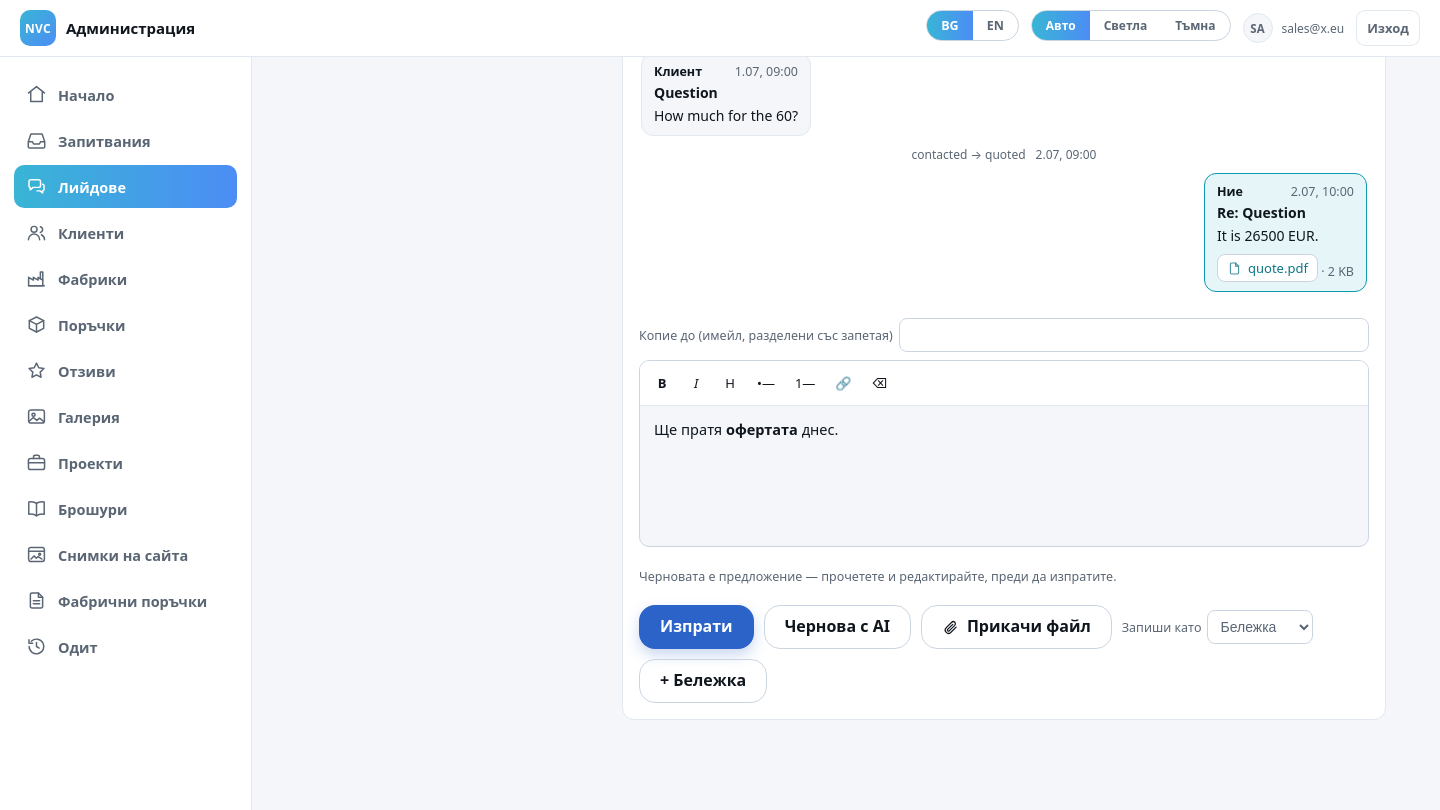
Scenario: AdminPipelinePage › sends the reply as rich HTML and returns the box to the bare signature
(page scrolled)
Click the button "Изпрати" at (696, 627), box [639, 605, 754, 649]
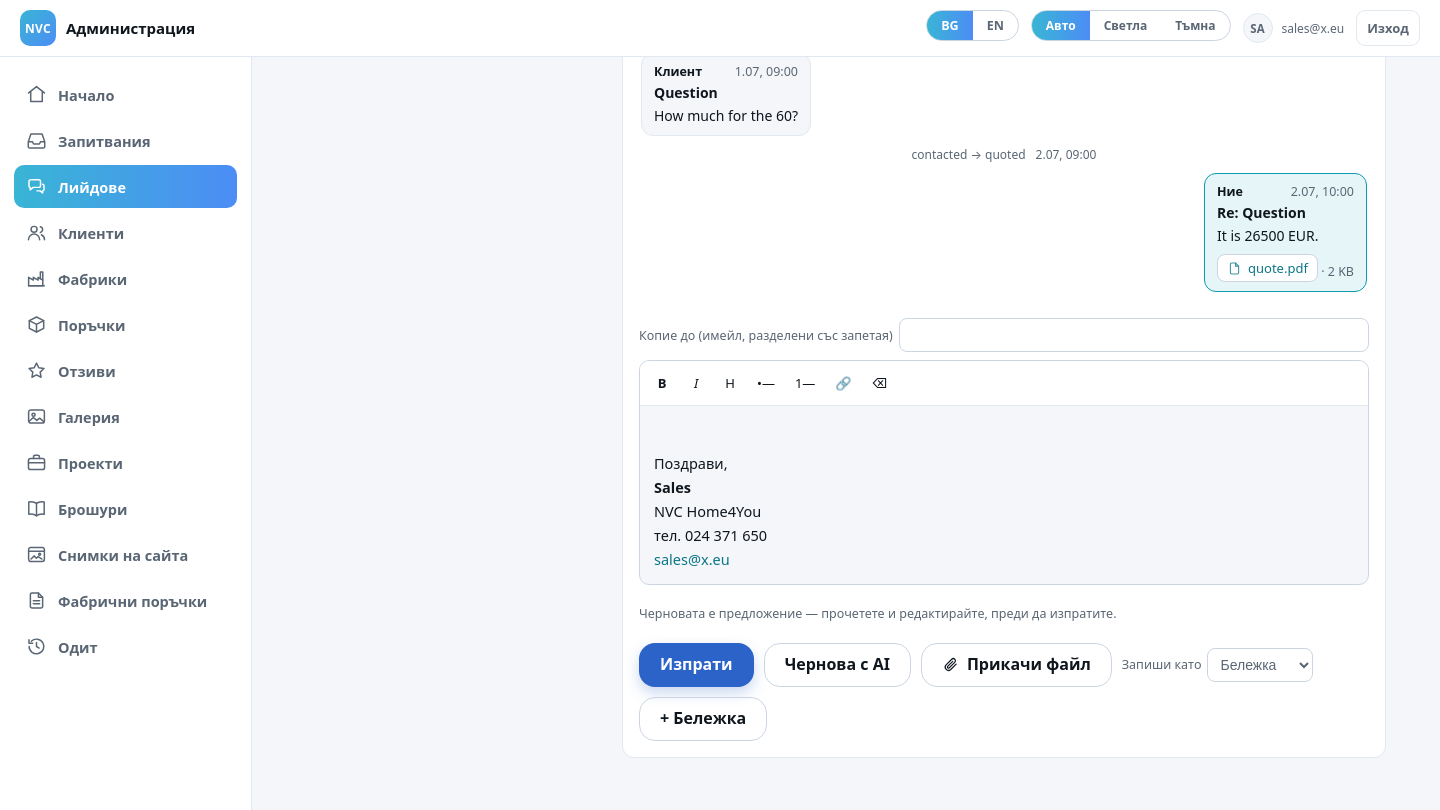
Expected: the text box labelled "Ще пратя офертата днес." no longer shows "Ще пратя"
